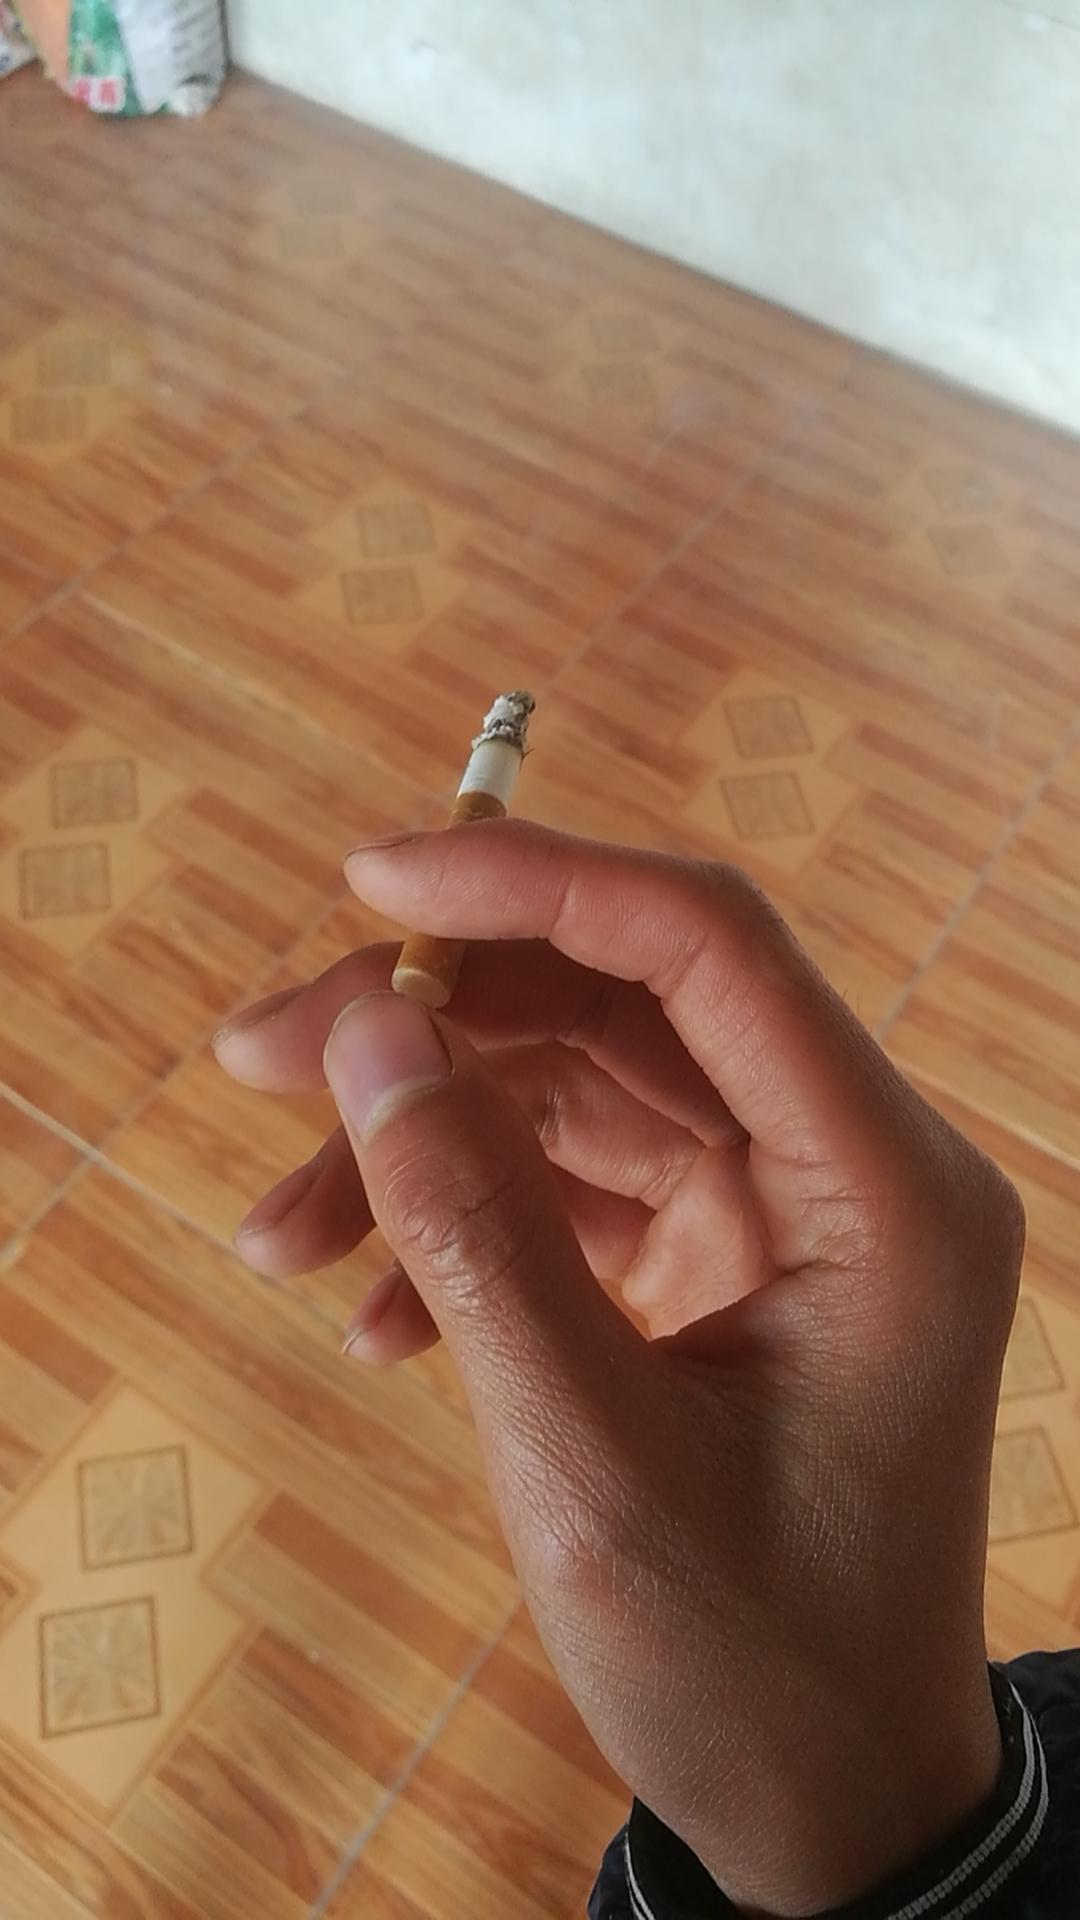Cigarette: (393, 695, 539, 1007)
